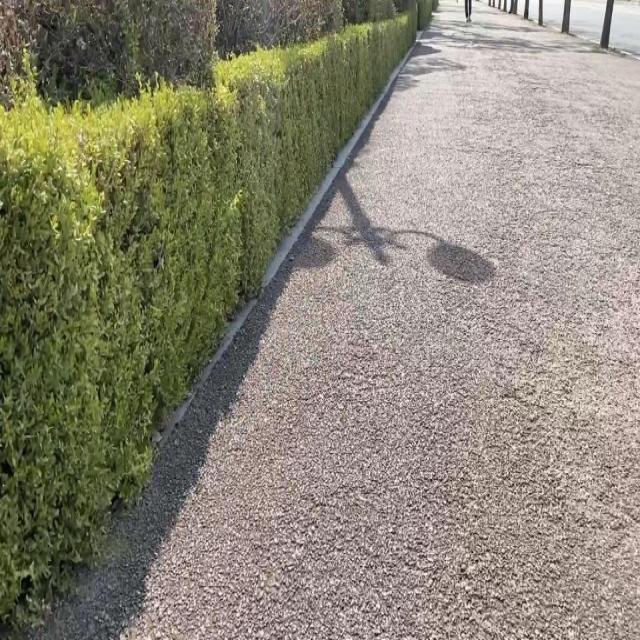sidewalk: (36, 1, 640, 639)
